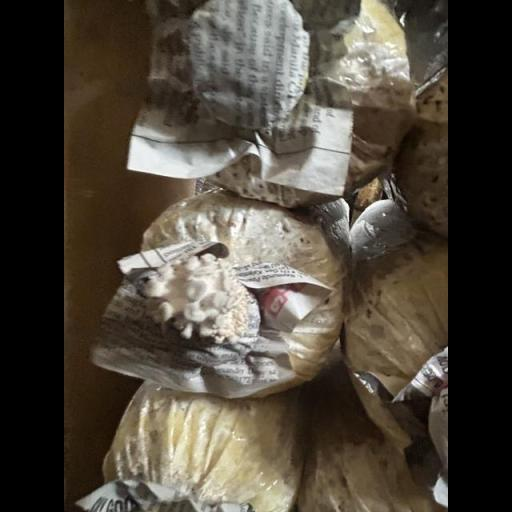White Oyster Mushroom: (118, 232, 274, 364)
